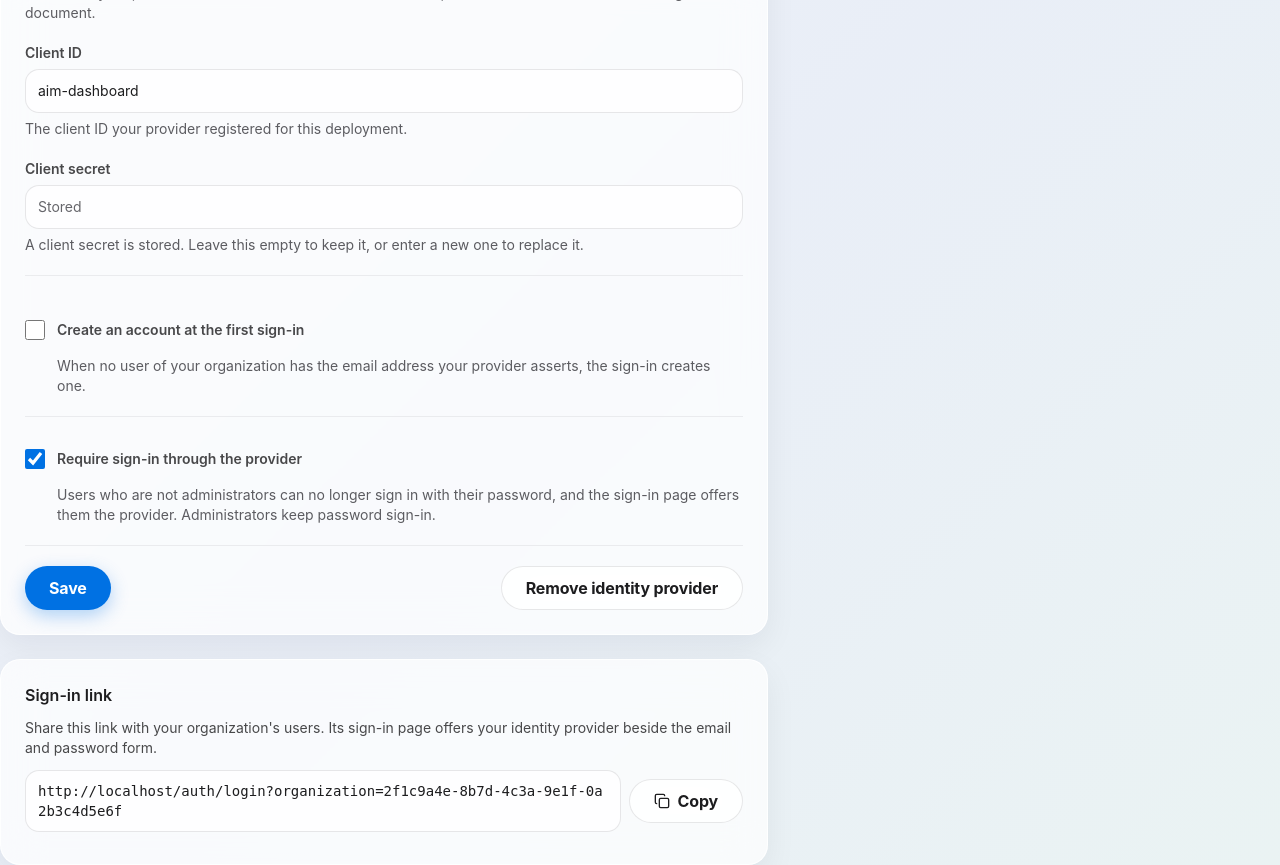
Test case: the identity provider page › removes the provider after a confirmation, and offers the empty form
This screenshot has width=1280, height=865.
(page scrolled)
Click the button "Remove identity provider".
click(622, 588)  # box [501, 566, 743, 610]
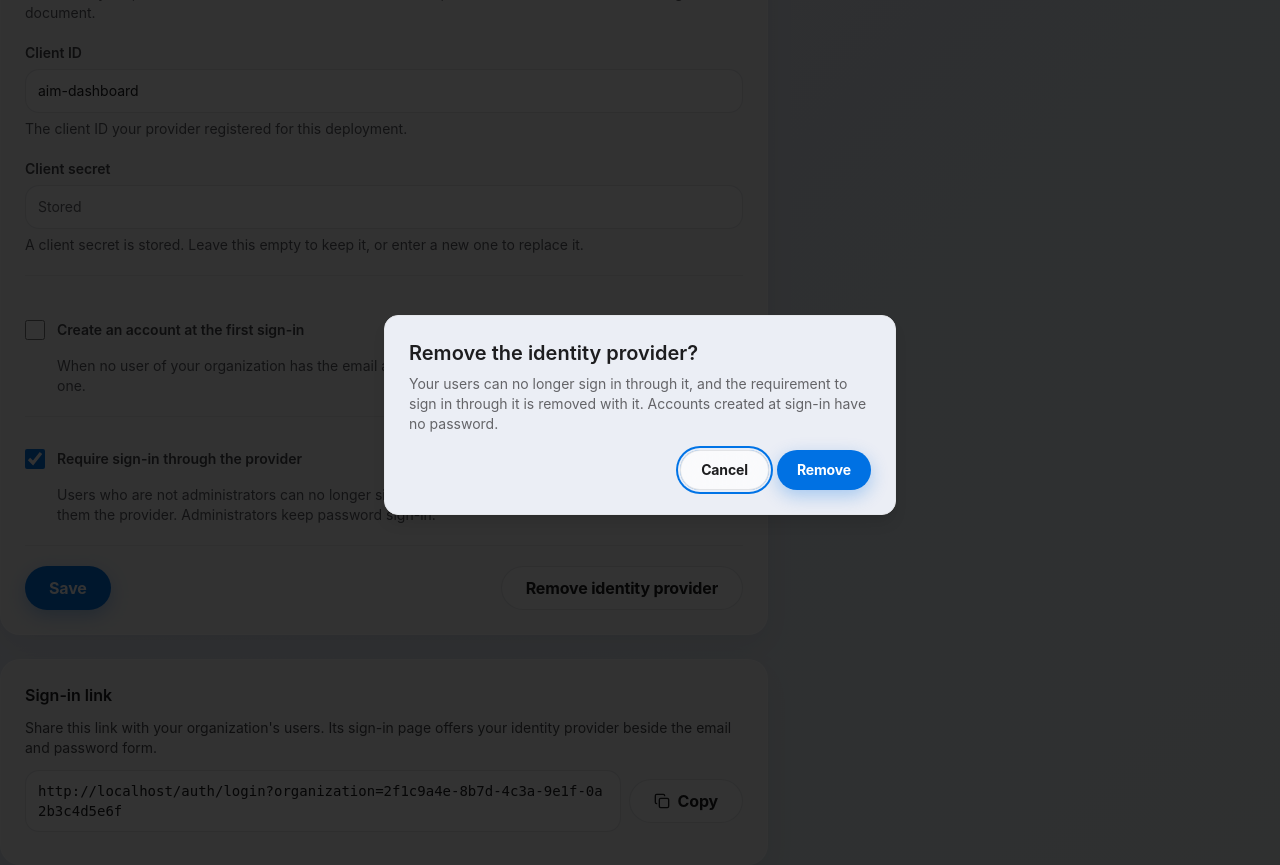
Expected: the dialog shows "the requirement to sign in through it is removed", [409, 375, 866, 432]
Expected: the dialog shows "Accounts created at sign-in have no password.", [409, 375, 866, 432]
Click the button "Remove".
click(824, 470)  # box [777, 450, 871, 490]
(page scrolled)
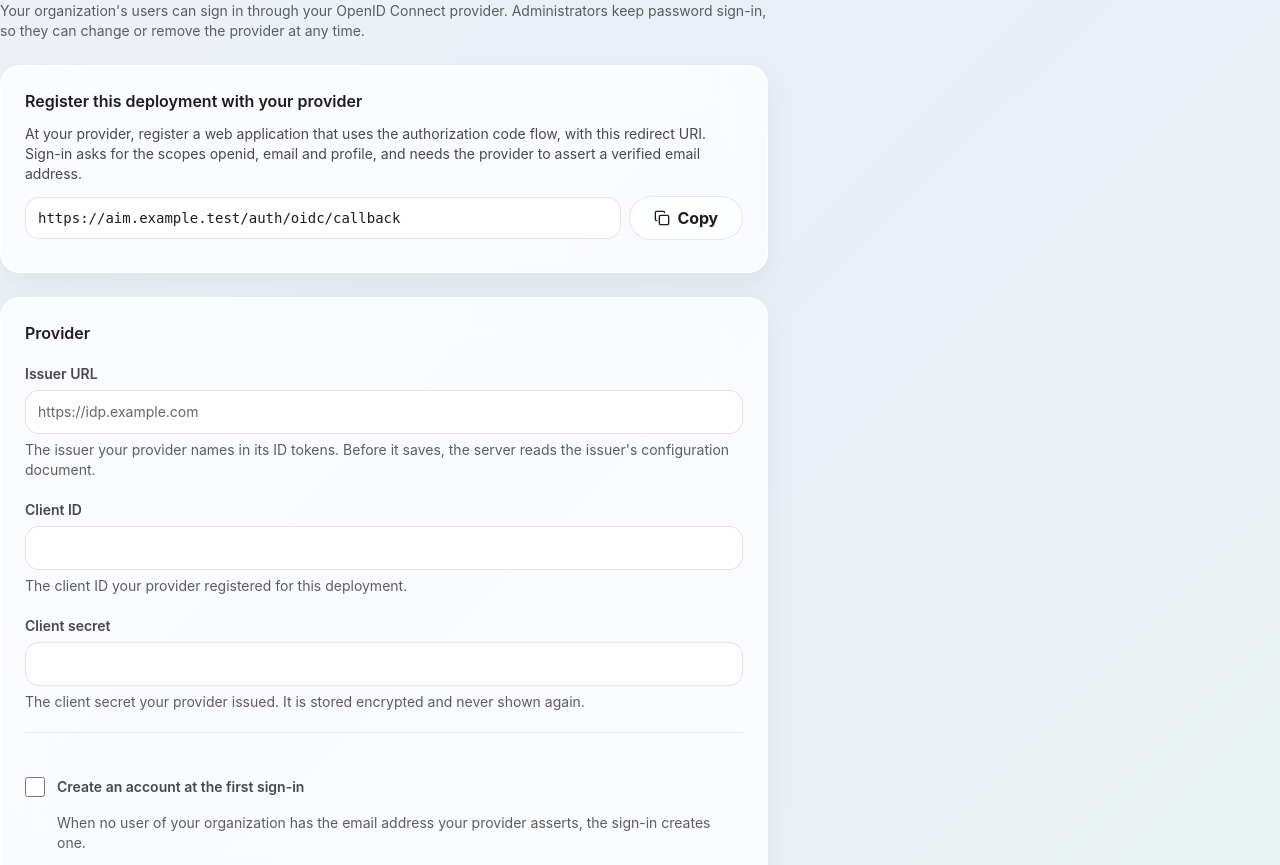
Expected: the text "https://aim.example.test/auth/oidc/callback" is shown, [25, 197, 620, 239]
Expected: the field labelled "Issuer URL" is empty, [25, 390, 743, 434]
Expected: the button "Remove identity provider" is gone
